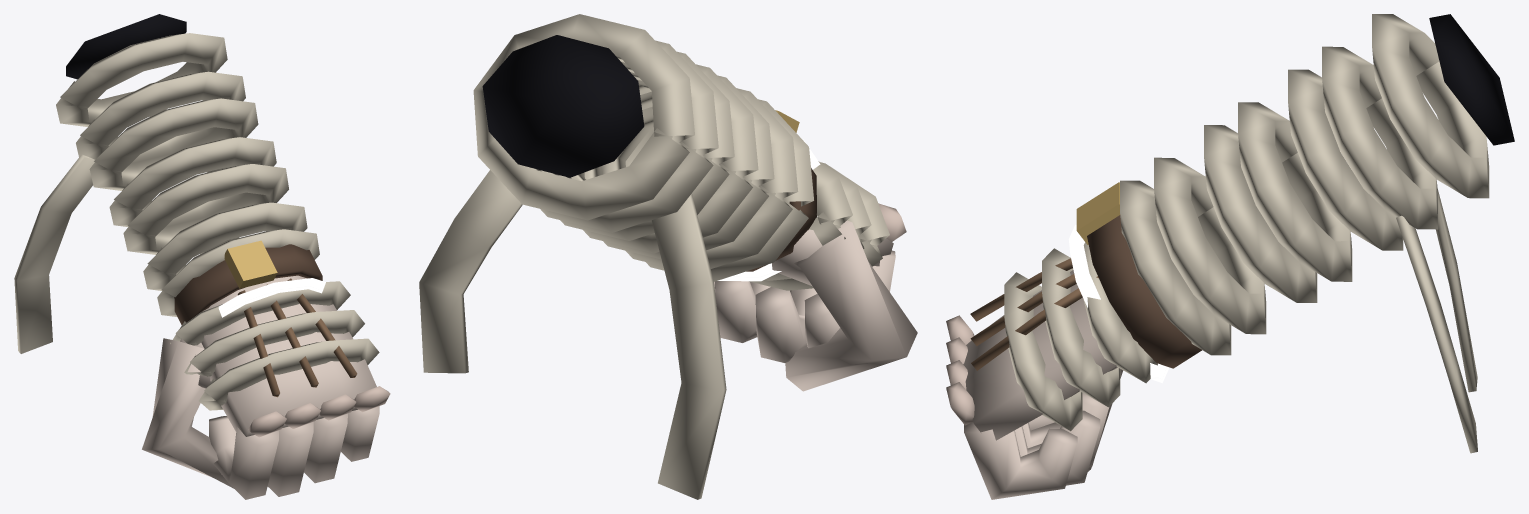
The model's file is gauntlet-bare-knuckle.glb.
The picture shows the model from 3 angles, left to right: view 1: azimuth 30°, elevation 25°; view 2: azimuth 150°, elevation 25°; view 3: azimuth 270°, elevation 25°; orthographic projection. The views are drawn at different scales.
Visible parts, largest first — view 1: gauntlet-bare-knuckle; view 2: gauntlet-bare-knuckle; view 3: gauntlet-bare-knuckle.
Part boxes in pixels (box(x1,y1,x2,y2)): gauntlet-bare-knuckle: box(14, 14, 390, 499); gauntlet-bare-knuckle: box(419, 14, 917, 499); gauntlet-bare-knuckle: box(946, 14, 1514, 499).
Bounding box in the file's own units: 0.2309 × 0.3281 × 0.3552.
